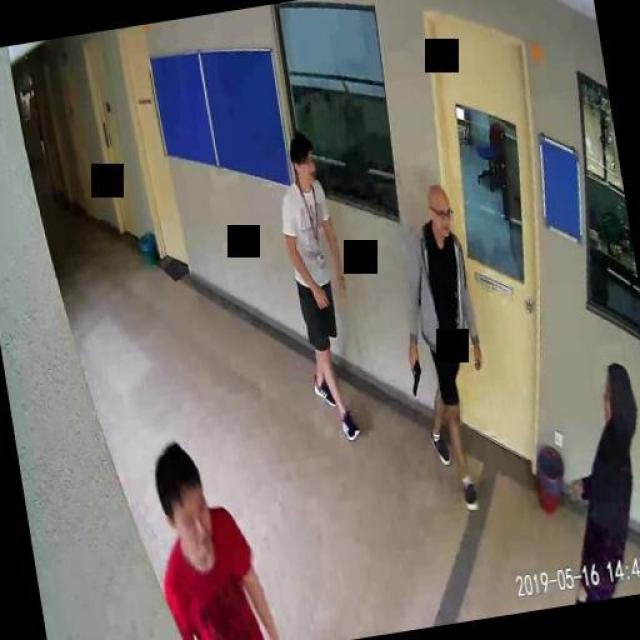gun: (406, 355, 424, 396)
